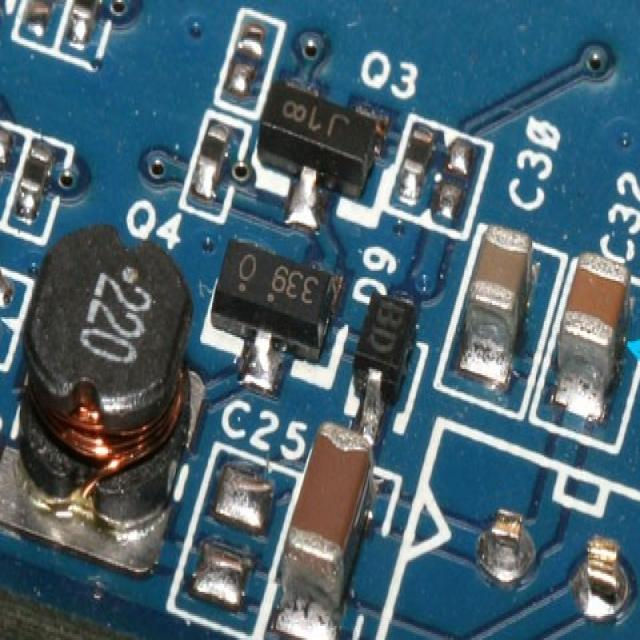4439: (212, 232, 340, 390), (251, 80, 388, 210)
capacitor 1V5: (281, 415, 378, 606), (556, 226, 629, 397), (463, 217, 531, 368)
diode -D1-: (350, 286, 414, 402)
inductor F1: (14, 222, 198, 537)
resistor IR1: (200, 114, 227, 192), (404, 124, 432, 192), (12, 144, 43, 203)
